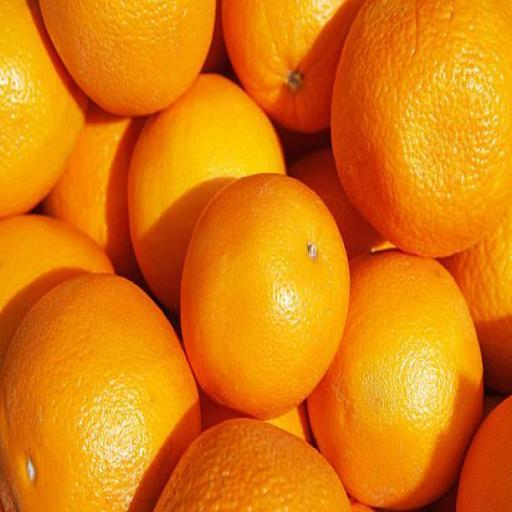orange: (0, 275, 199, 511), (332, 0, 511, 257), (308, 250, 482, 509), (181, 175, 349, 419)
